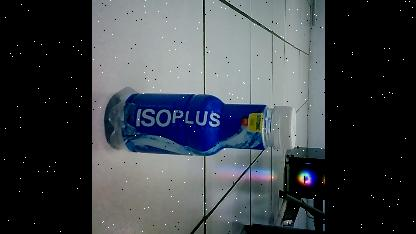Plastic Bottle: (106, 90, 300, 158)
